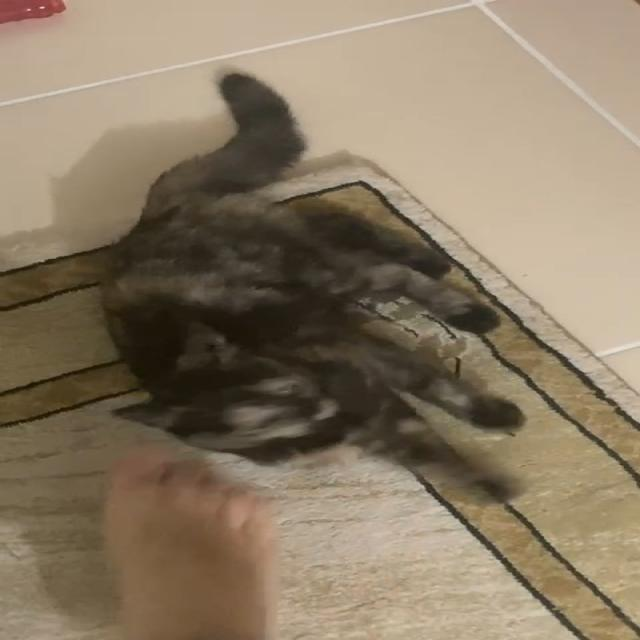authorized: (98, 70, 526, 502)
